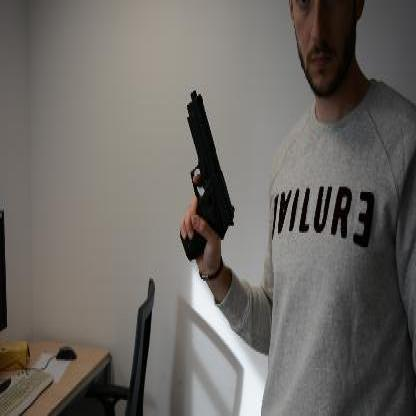pistol: (179, 88, 235, 260)
